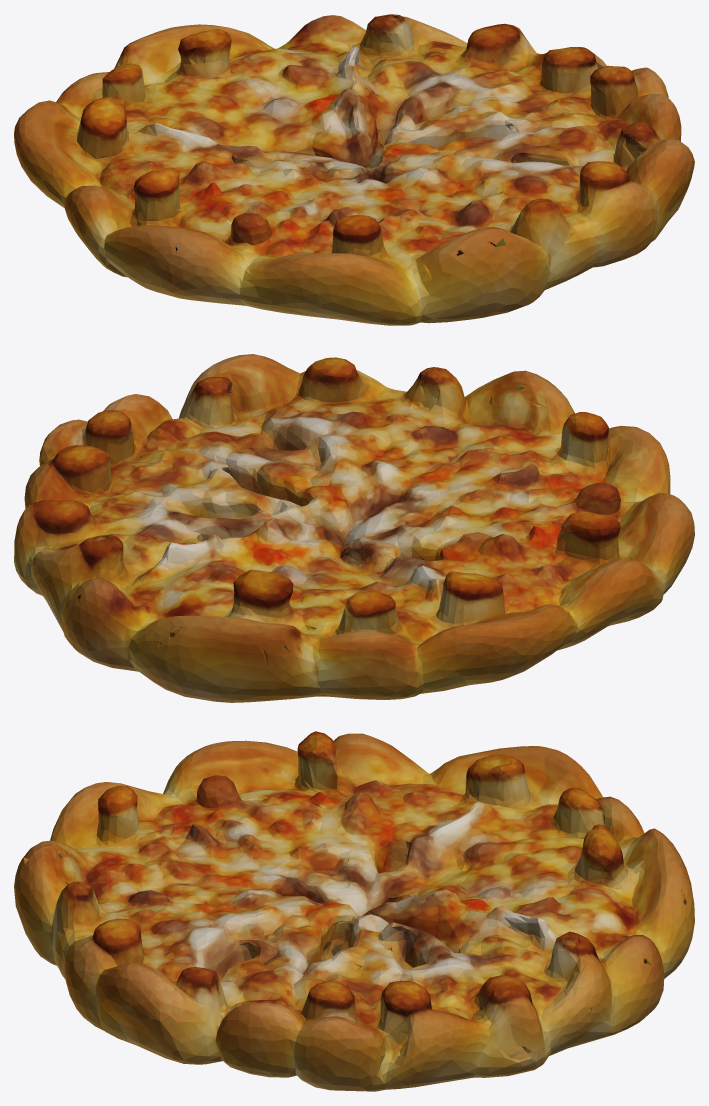
File: bbq chicken-s.glb
The picture shows the model from 3 angles, top to bottom: view 1: azimuth 30°, elevation 25°; view 2: azimuth 150°, elevation 25°; view 3: azimuth 270°, elevation 25°; orthographic projection. The views are drawn at different scales.
Parts seen in each view (by area): view 1: world; view 2: world; view 3: world.
Part boxes in pixels (box(x1,y1,x2,y2)): world: box(14, 14, 694, 325); world: box(14, 354, 694, 702); world: box(14, 731, 694, 1091).
Bounding box in the file's own units: 0.254 × 0.0457 × 0.247.
Materials: 1 (1 with a texture image).
